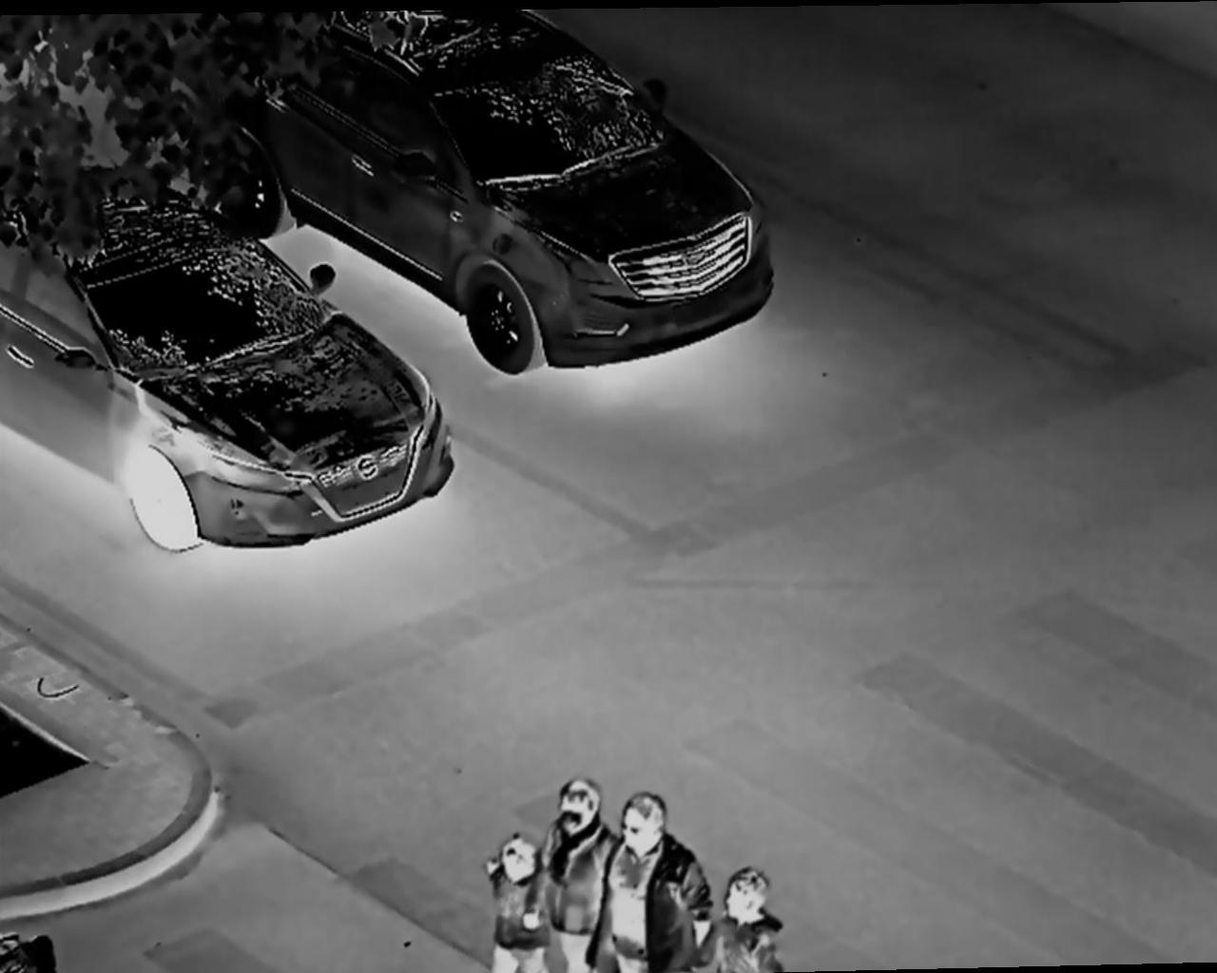person: (606, 793, 692, 973), (545, 779, 614, 963), (692, 863, 781, 973), (477, 832, 543, 973)
